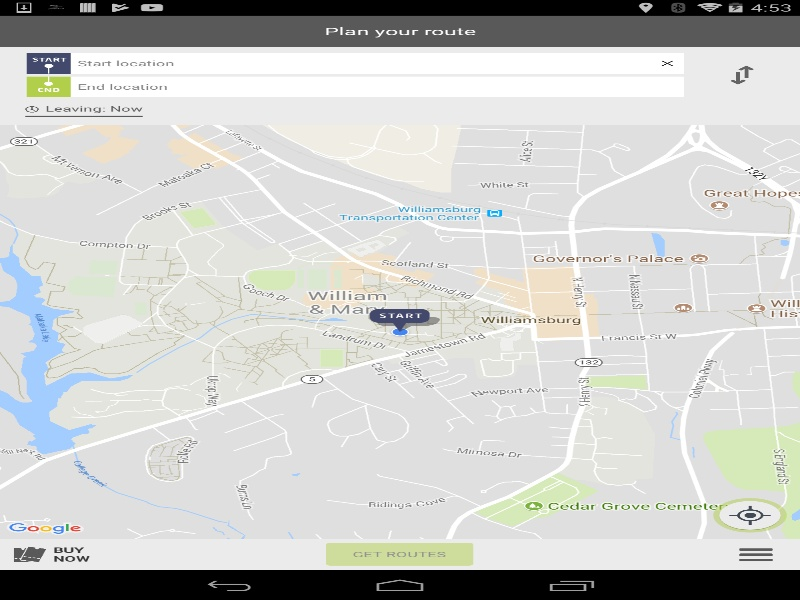Button: (326, 542, 473, 565), (713, 498, 786, 532), (45, 103, 142, 113), (26, 76, 70, 97), (26, 53, 70, 73)
Input: (70, 76, 644, 97), (70, 53, 650, 73)
